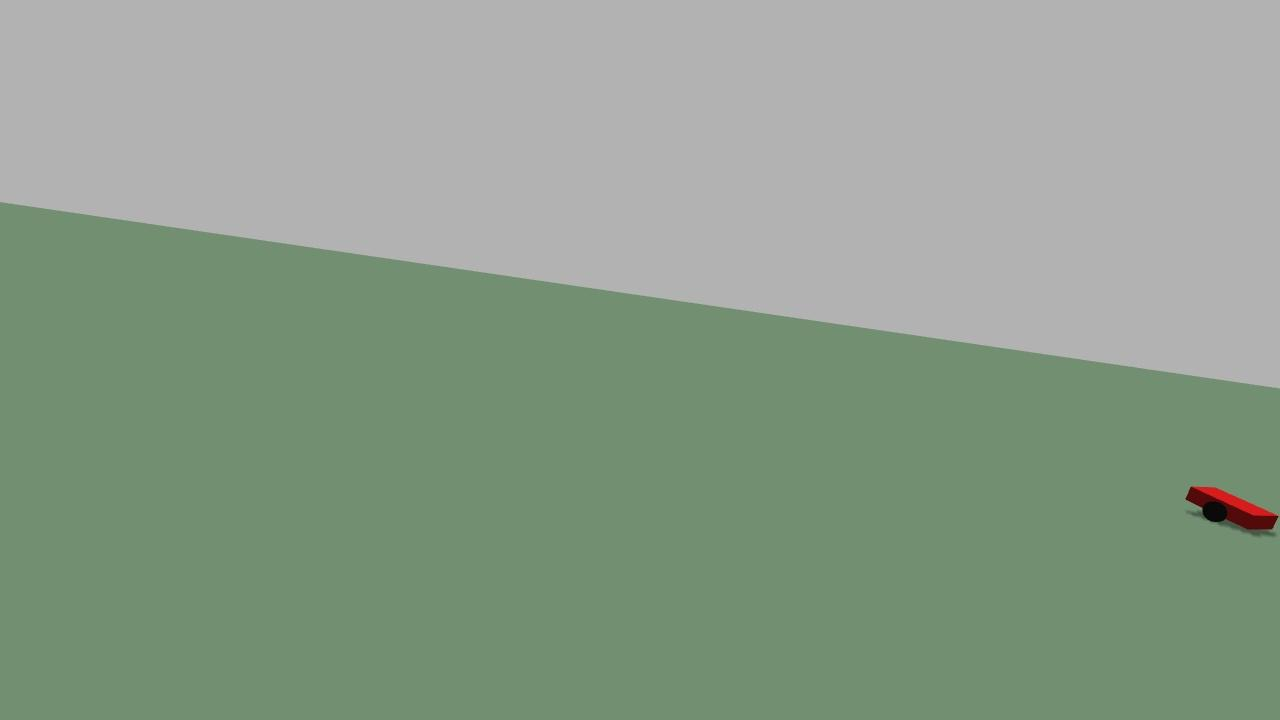ground_vehicle: (1185, 468, 1280, 558)
